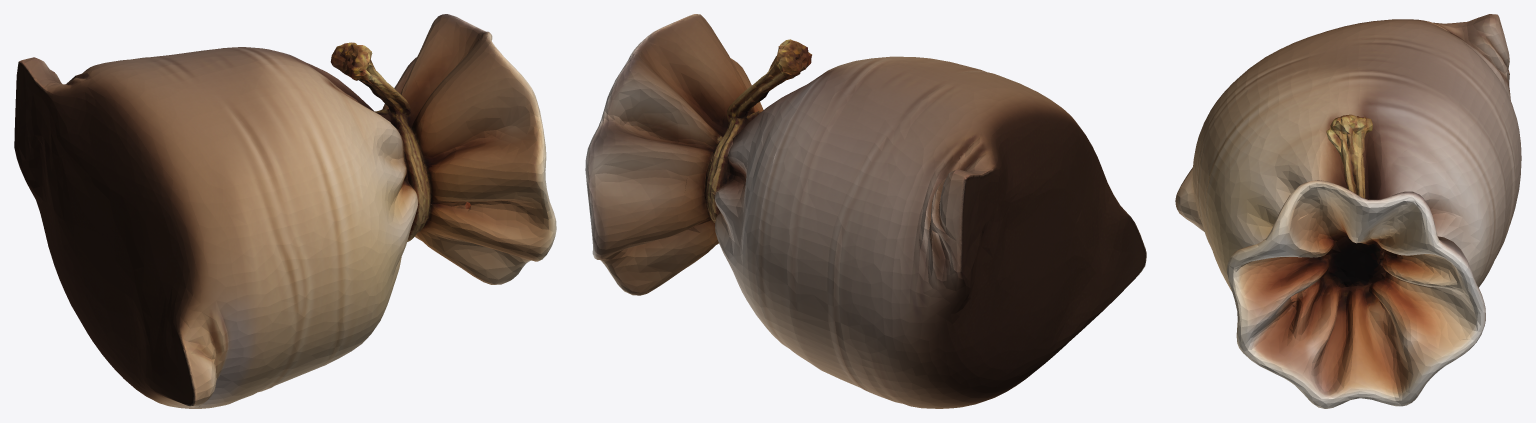
File: feed_sack_comfyui.glb
3 views of the same model, side by side, from view 1: azimuth 30°, elevation 25°; view 2: azimuth 150°, elevation 25°; view 3: azimuth 270°, elevation 25° (orthographic). The views are drawn at different scales.
Size of the model in its own units: 0.6586 by 0.4887 by 0.5437.
Materials: 1 (1 with a texture image).
